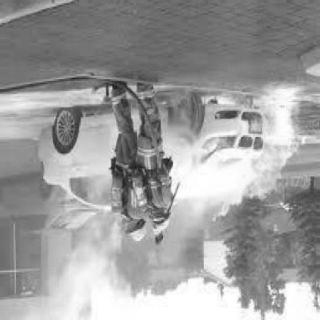Smoke: (176, 158, 224, 212)
